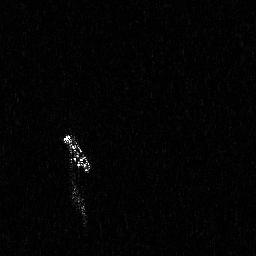ship: (60, 131, 91, 229)
